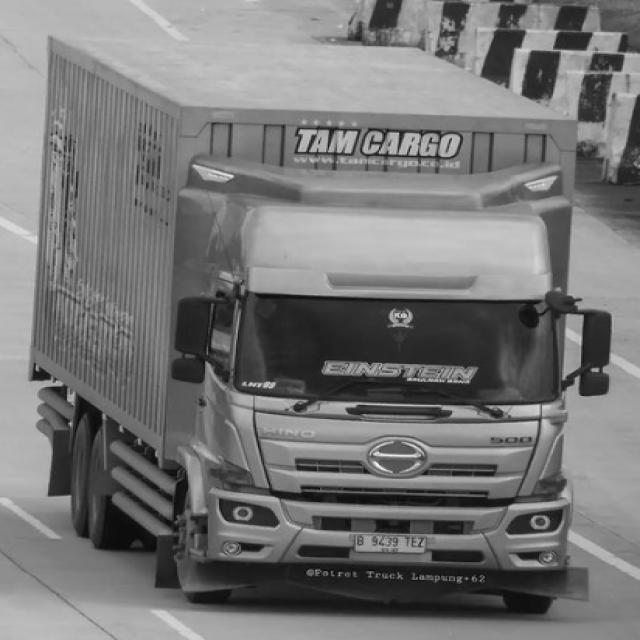Truck: (24, 13, 620, 614)
